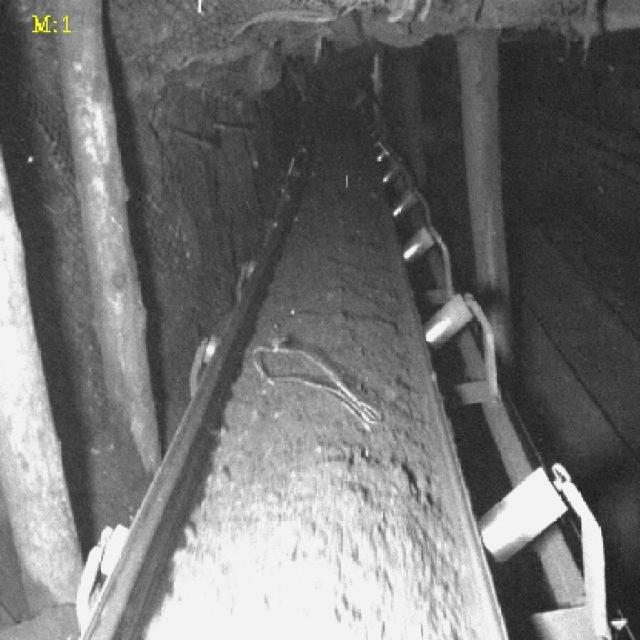bolt: (252, 343, 383, 425)
